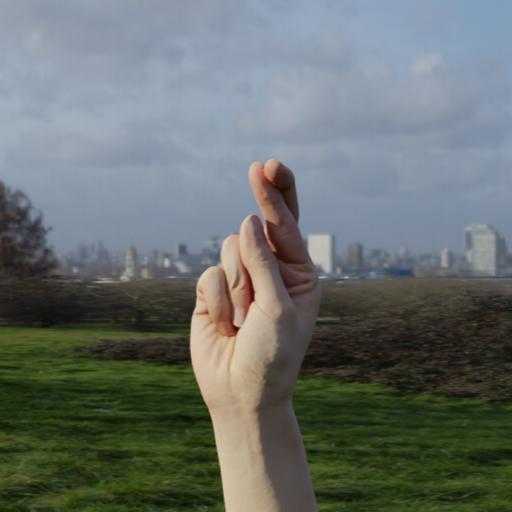R: (178, 152, 327, 428)
